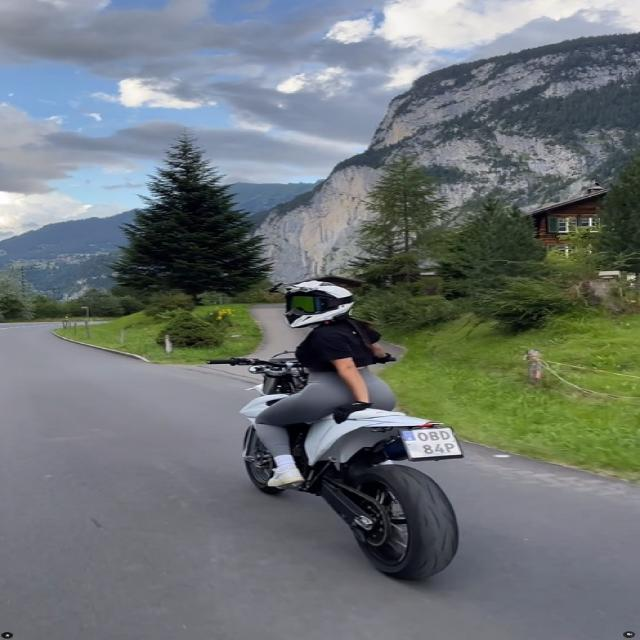illegal_helmet: (263, 277, 362, 331)
